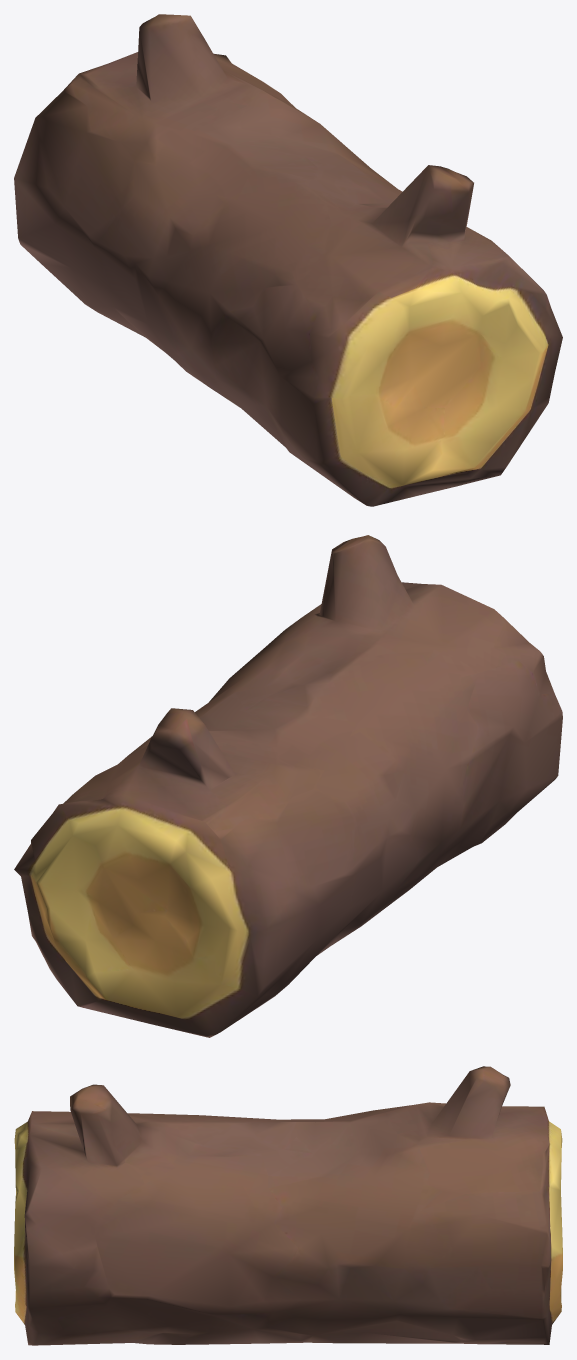
Rendered from log.glb.
The picture shows the model from 3 angles, top to bottom: view 1: azimuth 30°, elevation 25°; view 2: azimuth 150°, elevation 25°; view 3: azimuth 270°, elevation 25°; orthographic projection. The views are drawn at different scales.
Parts seen in each view (by area): view 1: tripo_node_c1b5d871-35a0-4465-92ad-0133076e7a95; view 2: tripo_node_c1b5d871-35a0-4465-92ad-0133076e7a95; view 3: tripo_node_c1b5d871-35a0-4465-92ad-0133076e7a95.
Part boxes in pixels (x1,y1,x2,y2): tripo_node_c1b5d871-35a0-4465-92ad-0133076e7a95: (14, 14, 562, 506); tripo_node_c1b5d871-35a0-4465-92ad-0133076e7a95: (14, 535, 562, 1037); tripo_node_c1b5d871-35a0-4465-92ad-0133076e7a95: (14, 1066, 562, 1345).
Bounding box in the file's own units: 0.475 × 0.4982 × 1.
Materials: 1 (1 with a texture image).
